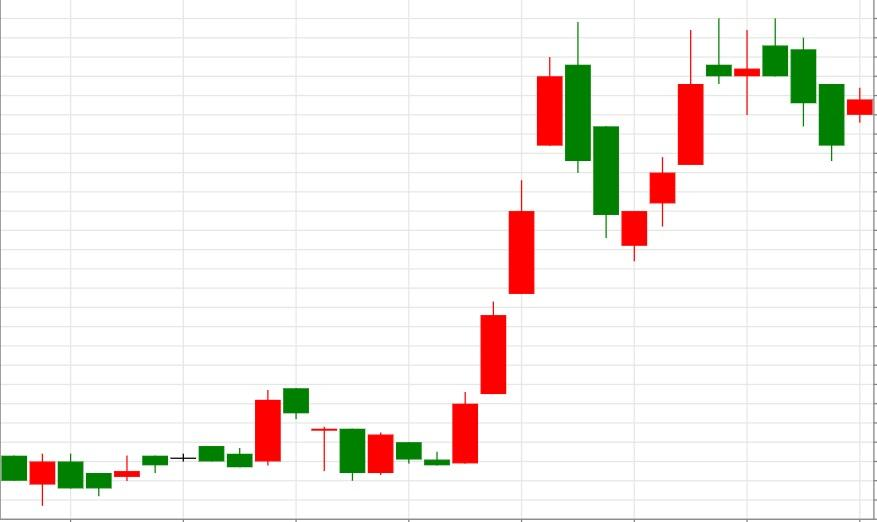three_white_soldiers_rise: (282, 180, 536, 482), (565, 21, 705, 261)
